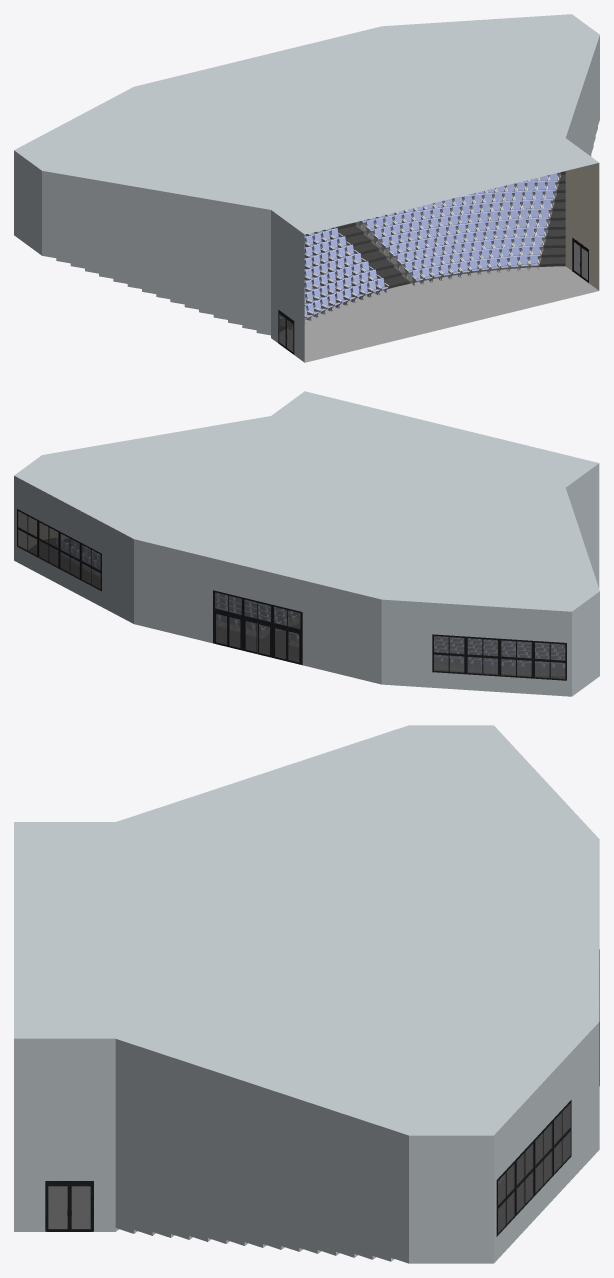
File: compressed-classroom.glb
The picture shows the model from 3 angles, top to bottom: view 1: azimuth 30°, elevation 25°; view 2: azimuth 150°, elevation 25°; view 3: azimuth 270°, elevation 25°; orthographic projection. The views are drawn at different scales.
Visible parts, largest first — view 1: Material2 (×4); view 2: Material2 (×5); view 3: Material2 (×5).
Boxes of the visible parts, x1,y1,x2,y2 form: Material2 (×4): (14,14,599,362); Material2 (×5): (14,391,599,696); Material2 (×5): (14,725,599,1263).
Bounding box in the file's own units: 1514 × 333 × 914.
6 materials, 6 textured.
